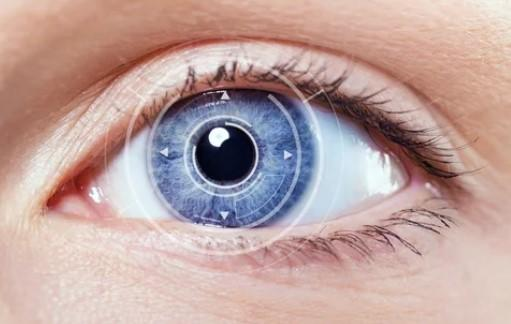eye: (157, 89, 309, 233)
